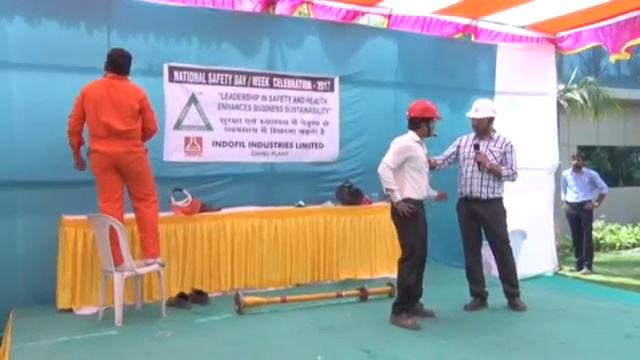helmet: (406, 98, 443, 120), (466, 98, 498, 120)
helmet_off: (105, 48, 133, 77), (569, 149, 586, 172)
helmet_on: (405, 98, 443, 140), (464, 98, 497, 136)
person: (64, 48, 166, 268), (429, 97, 528, 315), (374, 98, 449, 332), (559, 150, 608, 277)
